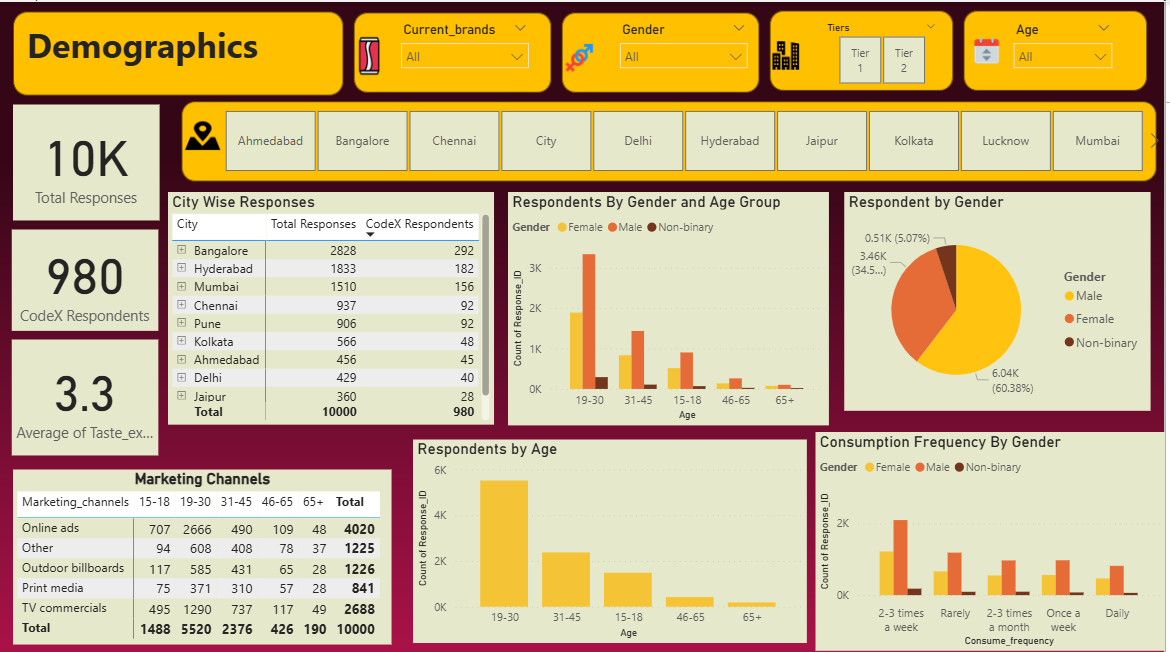

The page's visual inventory and layout, read from the dashboard file:
{"tool":"powerbi","page":{"name":"Demographics","canvas":[1280,720],"ordinal":1},"visuals":[{"type":"textbox","box":[16,16,368,80],"z":0},{"type":"slicer","fields":{"Values":["fact_survey_responses.Current_brands"]},"box":[432,16,160,80],"z":1000},{"type":"slicer","fields":{"Values":["dim_repondents.Gender"]},"box":[672,16,160,80],"z":2000},{"type":"slicer","fields":{"Values":["dim_repondents.Age"]},"box":[1104,16,128,80],"z":3000},{"type":"slicer","fields":{"Values":["dim_cities.Column3"]},"box":[896,16,144,80],"z":4000},{"type":"slicer","fields":{"Values":["dim_cities.Column2"]},"box":[224,112,1056,80],"z":5000},{"type":"card","fields":{"Values":["fact_survey_responses.Total Responses"]},"box":[16.5,112.4,160.4,127.5],"z":6000},{"type":"card","fields":{"Values":["fact_survey_responses.CodeX Respondents"]},"box":[15.1,249.5,160.4,111.1],"z":7000},{"type":"card","fields":{"Values":["Avg(fact_survey_responses.Taste_experience)"]},"box":[15.1,370.2,160.4,127.5],"z":8000},{"type":"pivotTable","title":"City Wise Responses","fields":{"Rows":["dim_cities.Column2","dim_repondents.Age"],"Values":["fact_survey_responses.Total Responses","fact_survey_responses.CodeX Respondents"]},"box":[186.5,208.4,357.8,255],"z":9000},{"type":"clusteredColumnChart","title":"Respondents By Gender and Age  Group","fields":{"Category":["dim_repondents.Age"],"Series":["dim_repondents.Gender"],"Y":["CountNonNull(fact_survey_responses.Response_ID)"]},"box":[560,208,352,256],"z":10000},{"type":"pieChart","title":"Respondent by Gender","fields":{"Y":["CountNonNull(fact_survey_responses.Response_ID)"],"Category":["dim_repondents.Gender"]},"box":[928,208,336,240],"z":11000},{"type":"pivotTable","title":"Marketing Channels","fields":{"Rows":["fact_survey_responses.Marketing_channels"],"Values":["fact_survey_responses.Total Responses"],"Columns":["dim_repondents.Age"]},"box":[16.5,512.8,415.4,191.9],"z":12000},{"type":"clusteredColumnChart","title":"Respondents by Age","fields":{"Y":["CountNonNull(fact_survey_responses.Response_ID)"],"Category":["dim_repondents.Age"]},"box":[455.2,479.9,431.9,223.5],"z":13000},{"type":"clusteredColumnChart","title":"Consumption Frequency By  Gender","fields":{"Category":["fact_survey_responses.Consume_frequency"],"Series":["dim_repondents.Gender"],"Y":["CountNonNull(fact_survey_responses.Response_ID)"]},"box":[896.7,471.6,383.9,239.9],"z":14000}]}

Visuals, with their boxes in screenshot pixels (x1, y1, x2, y2), scaled from the page's 1280x720 canvas onto the 1170x652 screenshot:
textbox: left=15, top=14, right=351, bottom=87
slicer - fact_survey_responses.Current_brands: left=395, top=14, right=541, bottom=87
slicer - dim_repondents.Gender: left=614, top=14, right=760, bottom=87
slicer - dim_repondents.Age: left=1009, top=14, right=1126, bottom=87
slicer - dim_cities.Column3: left=819, top=14, right=951, bottom=87
slicer - dim_cities.Column2: left=205, top=101, right=1169, bottom=174
card - fact_survey_responses.Total Responses: left=15, top=102, right=162, bottom=217
card - fact_survey_responses.CodeX Respondents: left=14, top=226, right=160, bottom=327
card - Avg(fact_survey_responses.Taste_experience): left=14, top=335, right=160, bottom=451
"City Wise Responses" pivotTable: left=170, top=189, right=498, bottom=420
"Respondents By Gender and Age  Group" clusteredColumnChart: left=512, top=188, right=834, bottom=420
"Respondent by Gender" pieChart: left=848, top=188, right=1155, bottom=406
"Marketing Channels" pivotTable: left=15, top=464, right=395, bottom=638
"Respondents by Age" clusteredColumnChart: left=416, top=435, right=811, bottom=637
"Consumption Frequency By  Gender" clusteredColumnChart: left=820, top=427, right=1169, bottom=644
